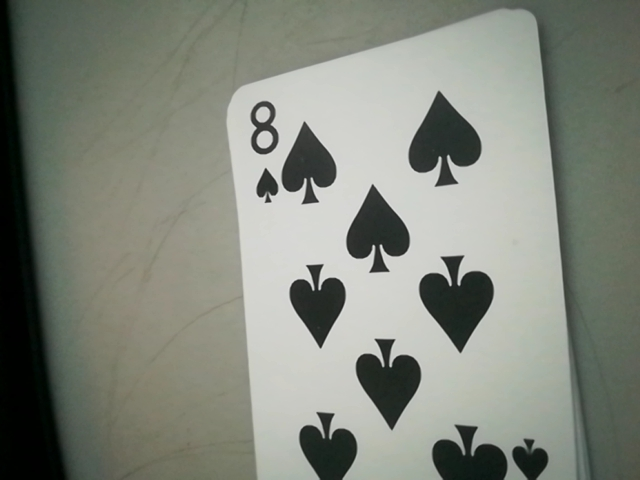ht 8: (240, 91, 296, 214)
